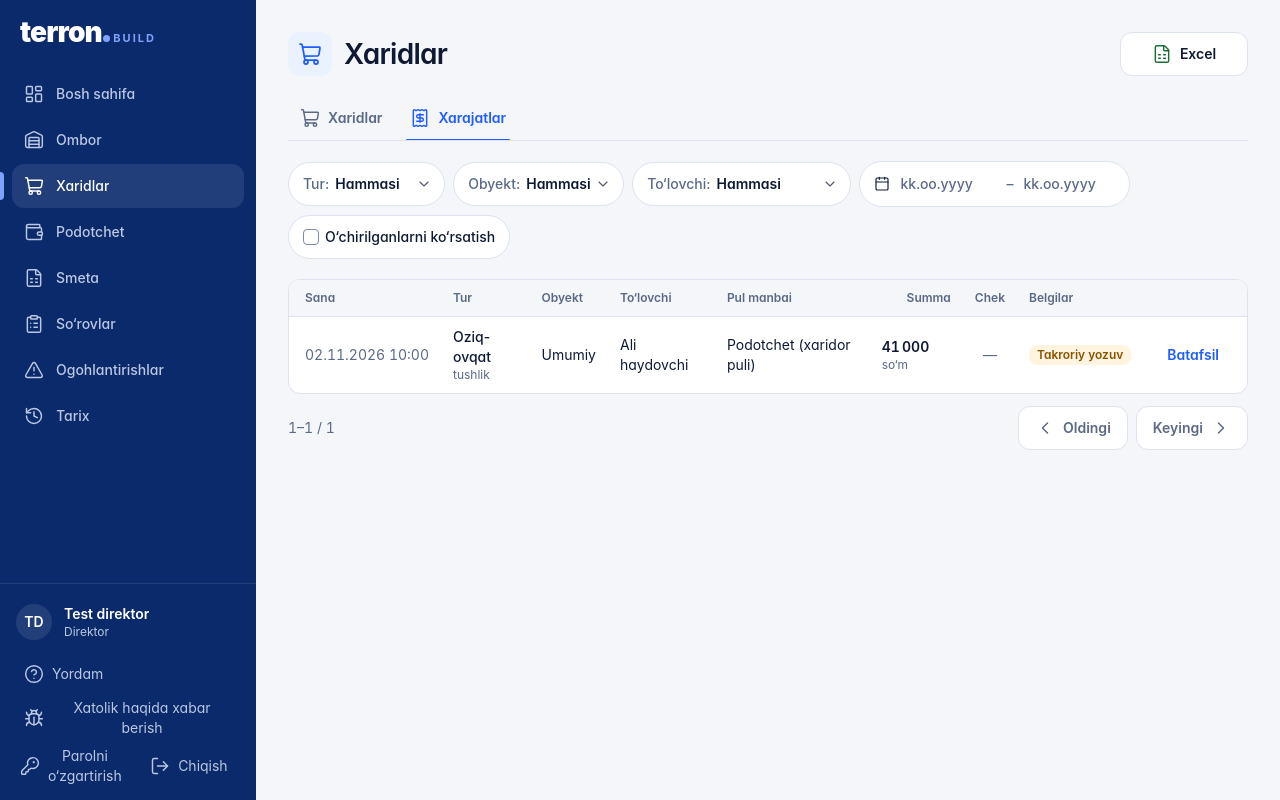
Test: /purchases → "Xarajatlar" tabi › ro‘yxat: tur, "Umumiy", to‘lovchi, belgi; "Umumiy" filtri; tafsilot — chek, joylashuv, pul manbai
Expected: the row with test id "expense-row" shows "Oziq-ovqat", [453,328,491,365]
Expected: the row with test id "expense-row" shows "Umumiy", [542,346,596,363]
Click the button "Batafsil".
click(1193, 355)  # box [1155,333,1231,377]
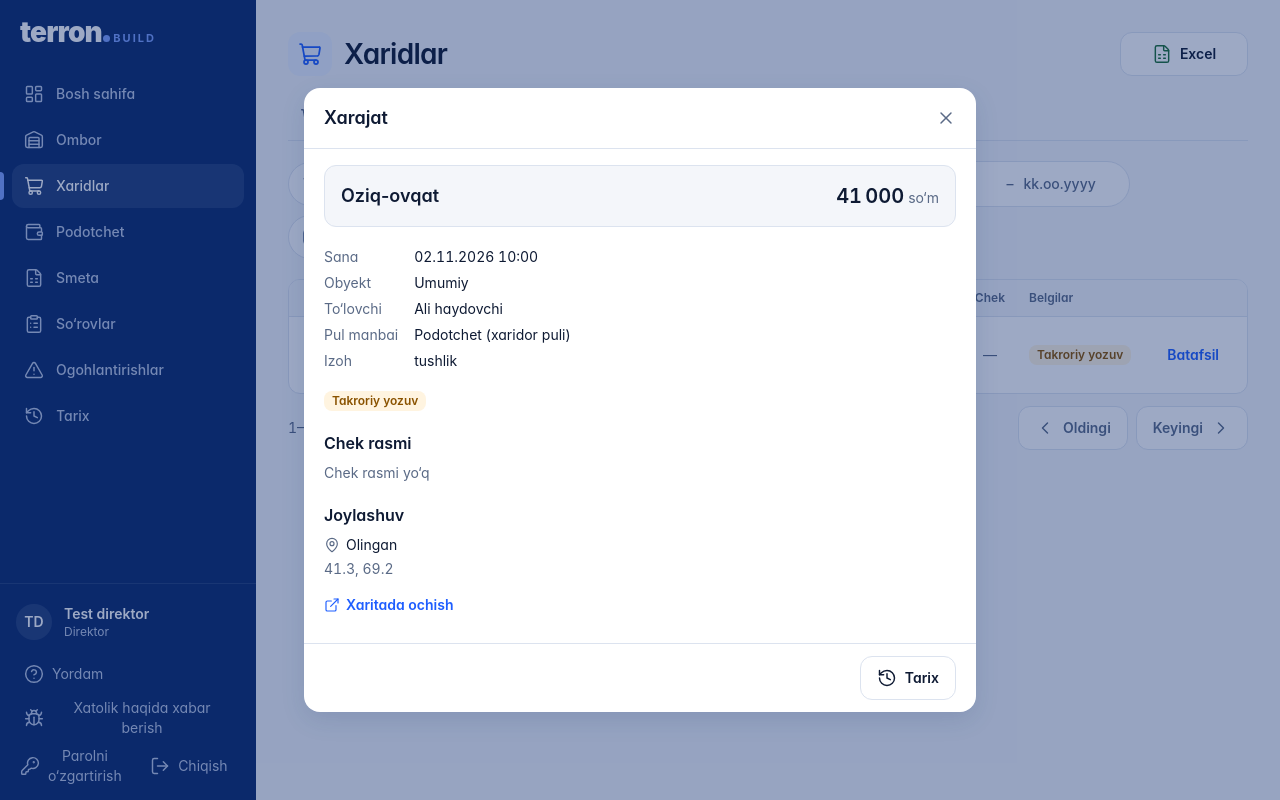
Expected: the element with test id "expense-detail" shows "Chek rasmi yo‘q", [324,464,430,481]
Expected: the element with test id "expense-detail" shows "Podotchet (xaridor puli)", [414,326,571,343]
Expected: the element with test id "expense-detail" shows "Olingan", [346,536,397,553]
